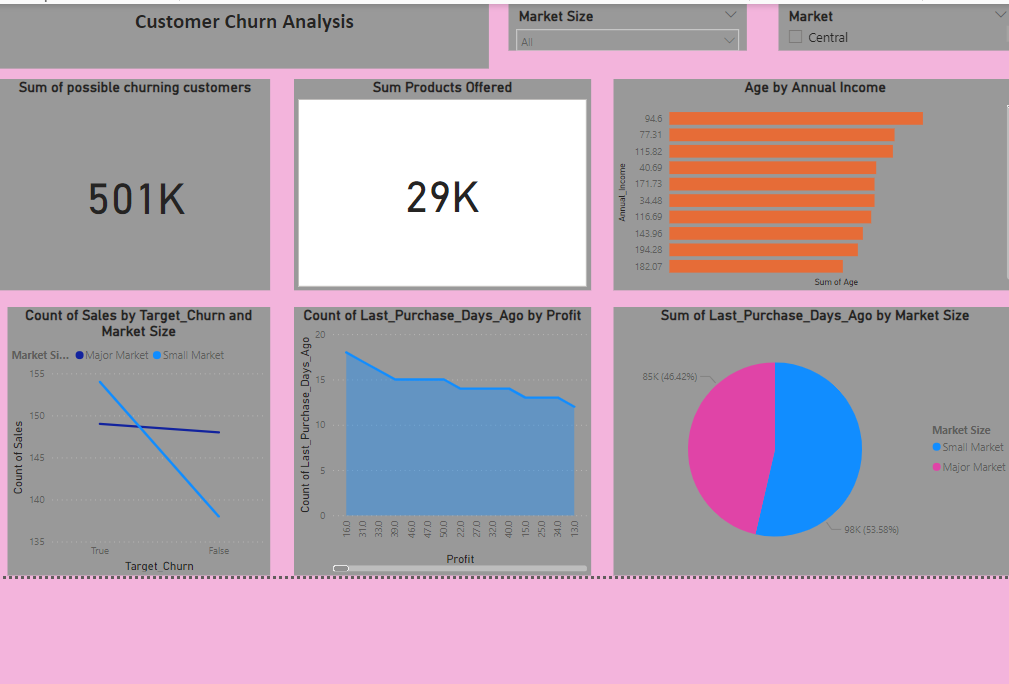

Layout of this report page (visuals, bound fields, positions):
{"tool":"powerbi","page":{"name":"Page 1","canvas":[1280,720],"ordinal":0},"visuals":[{"type":"lineChart","fields":{"Category":["clean_data.Target_Churn"],"Series":["clean_data.Market Size"],"Y":["Count(clean_data.Sales)"]},"box":[9.4,381.4,330.4,337.9],"z":0},{"type":"barChart","title":" Age by Annual Income","fields":{"Category":["clean_data.Annual_Income"],"Y":["Sum(clean_data.Age)"]},"box":[772.2,94.4,507.8,266.2],"z":1000},{"type":"card","title":"Sum of possible churning customers","fields":{"Values":["Sum(clean_data.Customer_ID)"]},"box":[0,94.4,339.8,266.2],"z":2000},{"type":"stackedAreaChart","fields":{"Category":["clean_data.Profit"],"Y":["Count(clean_data.Last_Purchase_Days_Ago)"]},"box":[370,381.4,373.8,337.9],"z":3000},{"type":"pieChart","fields":{"Category":["clean_data.Market Size"],"Y":["Sum(online_retail_customer_churn.Last_Purchase_Days_Ago)"]},"box":[772.2,381.4,507.8,337.9],"z":4000},{"type":"cardVisual","title":" Sum Products Offered","fields":{"Data":["Sum(sales.ProductId)"]},"box":[370,94.4,373.8,266.2],"z":5000},{"type":"textbox","box":[0,0,615.5,81.2],"z":6000},{"type":"slicer","fields":{"Values":["sales.Market Size","sales.Market"]},"box":[640,0,300.2,58.5],"z":7000},{"type":"slicer","fields":{"Values":["sales.Market"]},"box":[979.8,0,300.2,58.5],"z":8000}]}

Visuals, with their boxes in screenshot pixels (x1, y1, x2, y2):
lineChart - clean_data.Target_Churn x clean_data.Market Size: crop(0, 307, 266, 580)
" Age by Annual Income" barChart: crop(614, 76, 1008, 291)
"Sum of possible churning customers" card: crop(0, 76, 266, 291)
stackedAreaChart - clean_data.Profit x Count(clean_data.Last_Purchase_Days_Ago): crop(290, 307, 592, 580)
pieChart - clean_data.Market Size x Sum(online_retail_customer_churn.Last_Purchase_Days_Ago): crop(614, 307, 1008, 580)
" Sum Products Offered" cardVisual: crop(290, 76, 592, 291)
textbox: crop(0, 0, 488, 65)
slicer - sales.Market Size x sales.Market: crop(508, 0, 750, 47)
slicer - sales.Market: crop(782, 0, 1008, 47)
